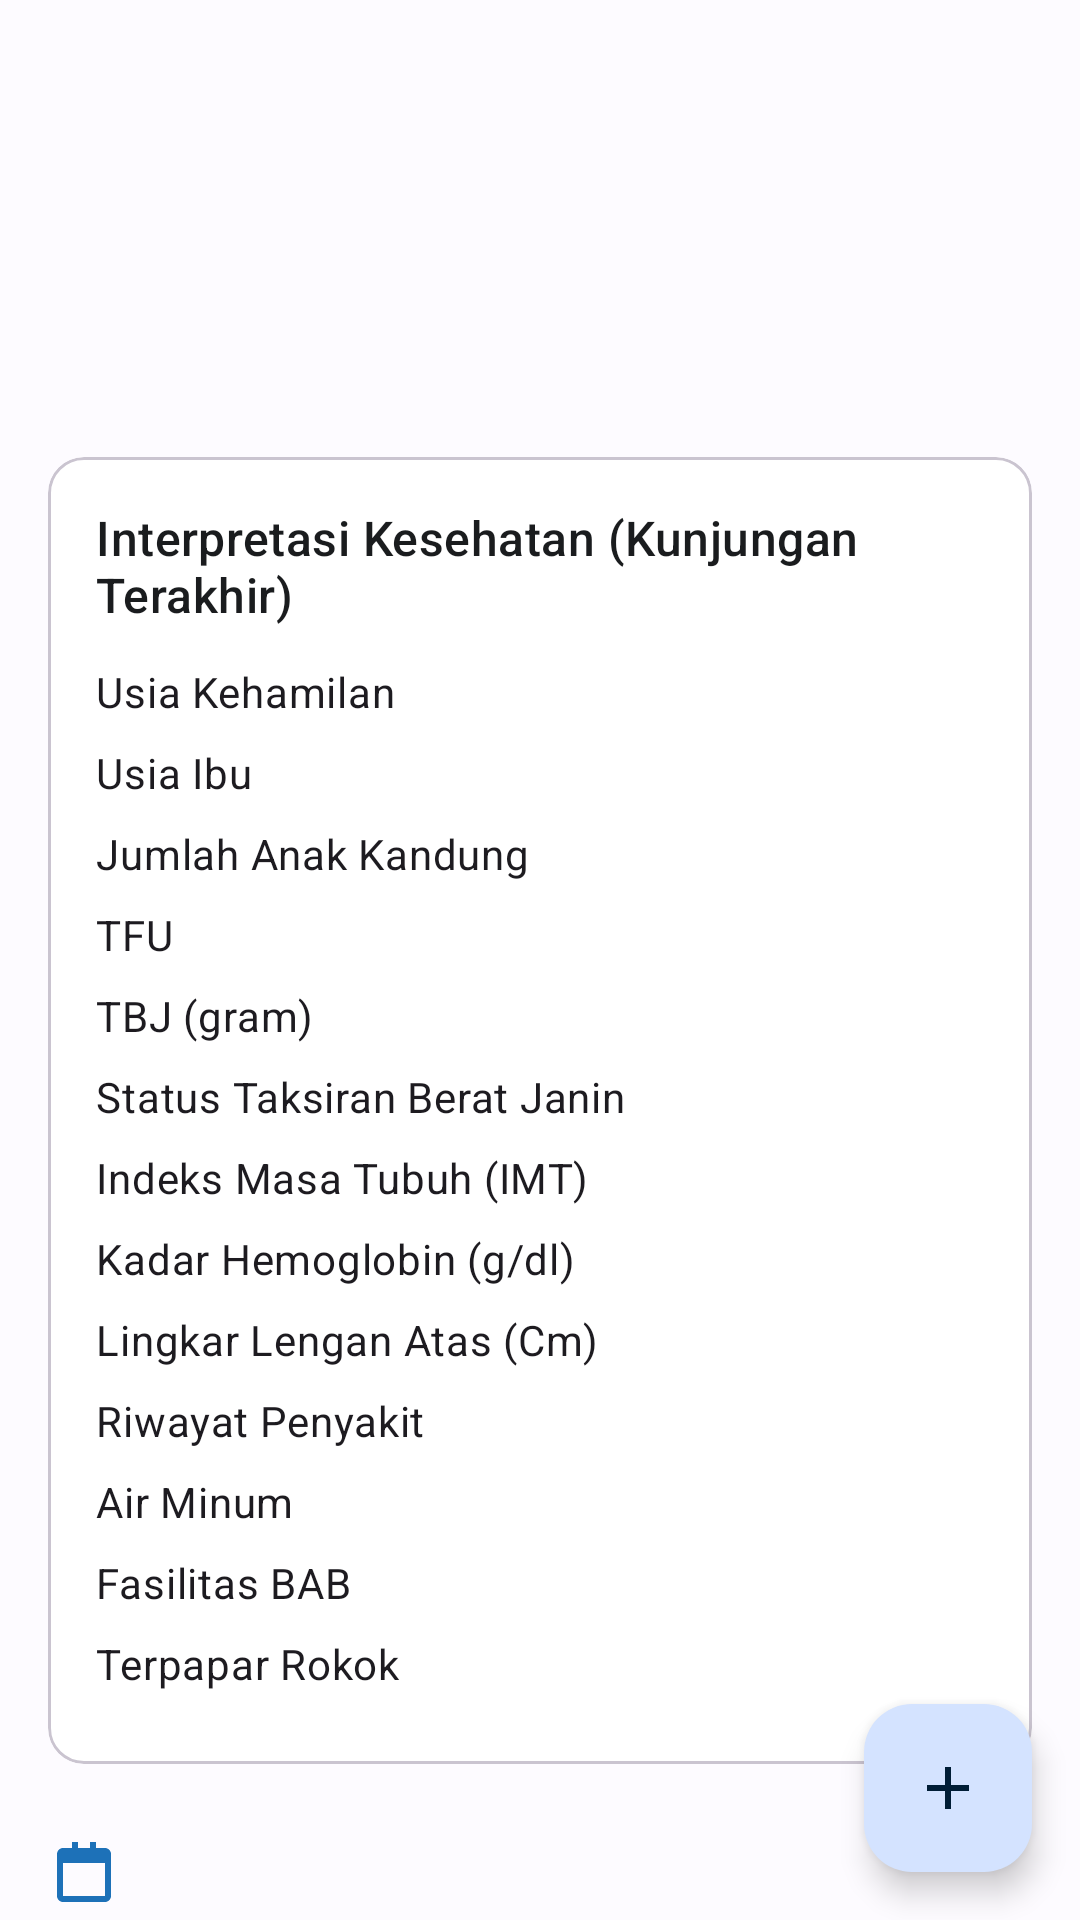

Where icons sit on this 1080*1920 app screen, as rect(x1, y1, x2, y2):
Tambah Kunjungan Baru: rect(864, 1704, 1032, 1872)
